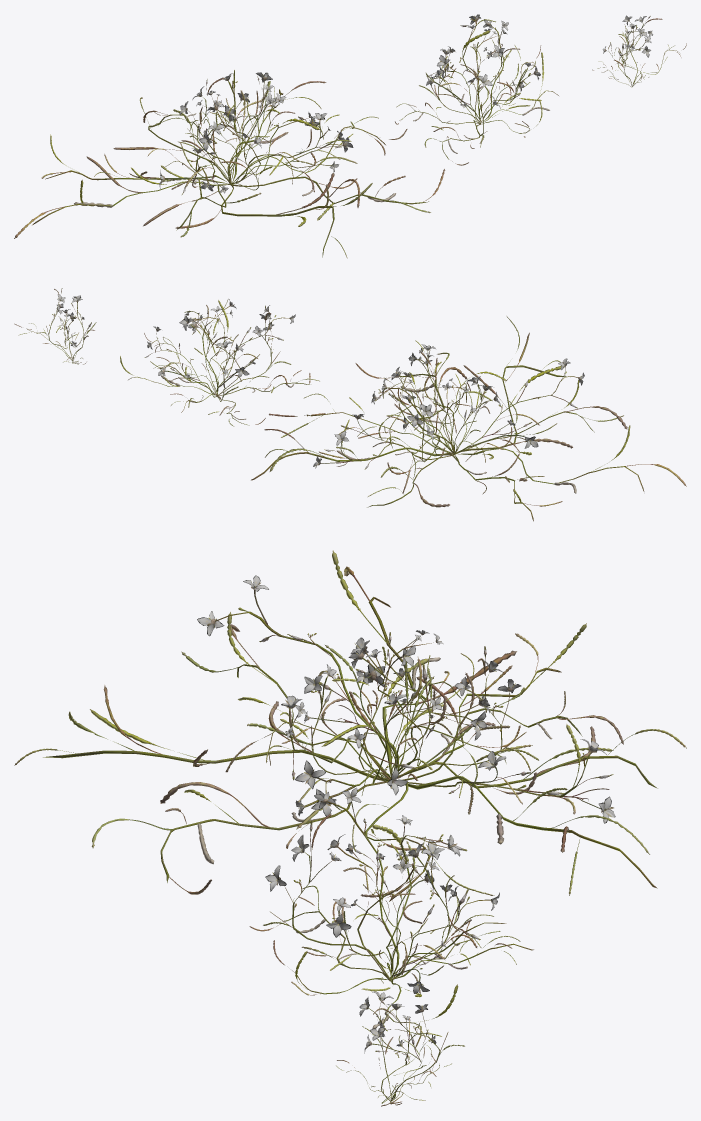
The model's file is SmallFlower_astral3d.optimize.glb.
3 renders of one model, top to bottom at view 1: azimuth 30°, elevation 25°; view 2: azimuth 150°, elevation 25°; view 3: azimuth 270°, elevation 25°, orthographic. The views are drawn at different scales.
Parts seen in each view (by area): view 1: flower_heliophila_large; view 2: flower_heliophila_large; view 3: flower_heliophila_large.
Part boxes in pixels (x1,y1,x2,y2): flower_heliophila_large: [14, 14, 686, 258]; flower_heliophila_large: [14, 288, 686, 521]; flower_heliophila_large: [14, 550, 686, 1106].
Size of the model in its own units: 2.75 by 0.3992 by 1.42.
Materials: 1 (1 with a texture image).
